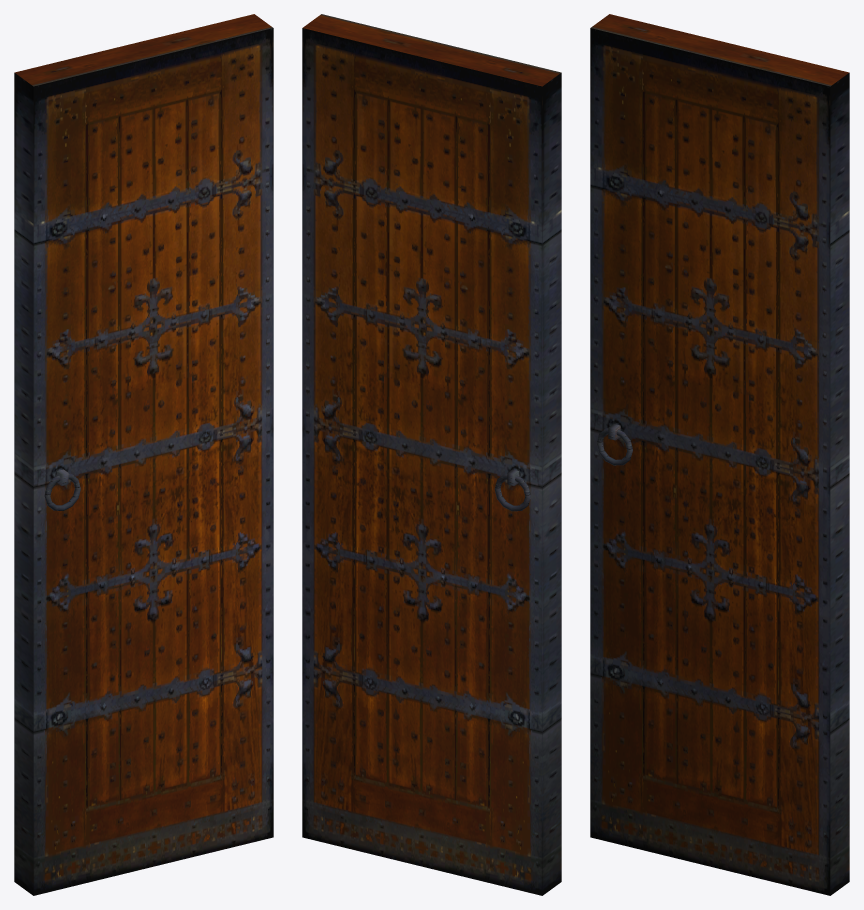
The model's file is SH3D_Sparta_DDoorR.obj.
3 views of the same model, side by side, from view 1: azimuth 30°, elevation 25°; view 2: azimuth 150°, elevation 25°; view 3: azimuth 330°, elevation 25° (orthographic).
Parts seen in each view (by area): view 1: SH3D_DDoorR_Sparta0; view 2: SH3D_DDoorR_Sparta0; view 3: SH3D_DDoorR_Sparta0.
Boxes of the visible parts, <box> form: SH3D_DDoorR_Sparta0: <box>14,14,273,895</box>; SH3D_DDoorR_Sparta0: <box>302,14,561,895</box>; SH3D_DDoorR_Sparta0: <box>590,14,849,895</box>.
Size of what is drawn, in the model's own units: 80 by 258 by 16.8.
1 material, 1 textured.
